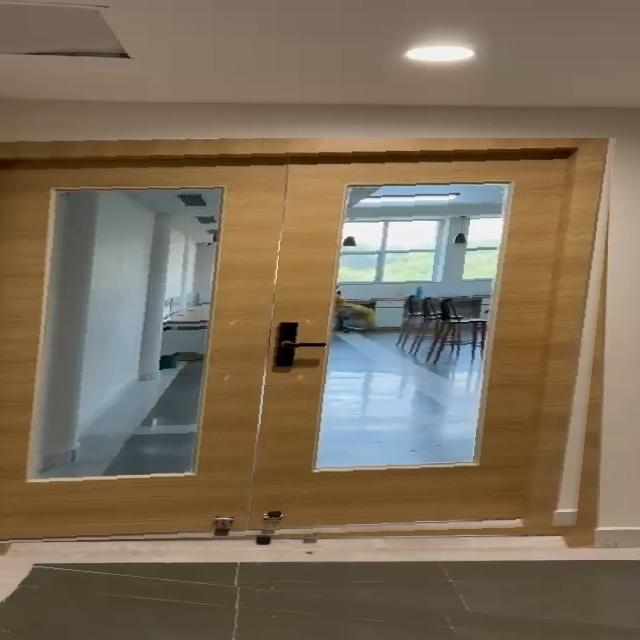door: (0, 138, 618, 544)
floor: (0, 562, 640, 640)
